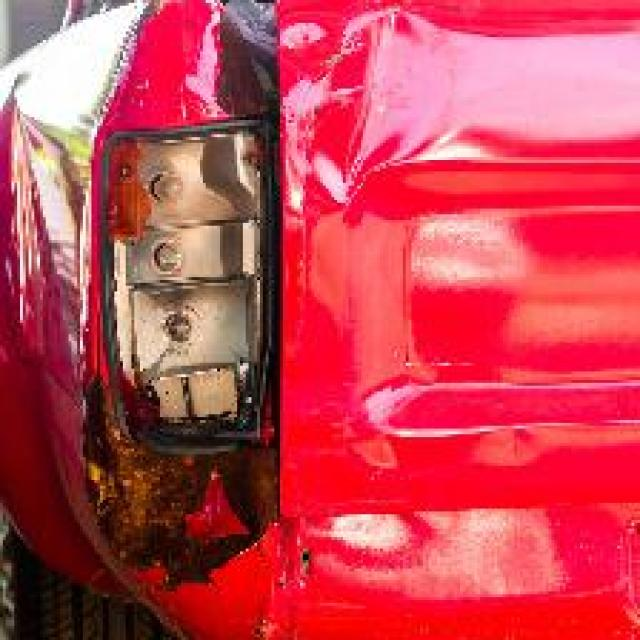tail_lamp_severe: (86, 29, 274, 574)
